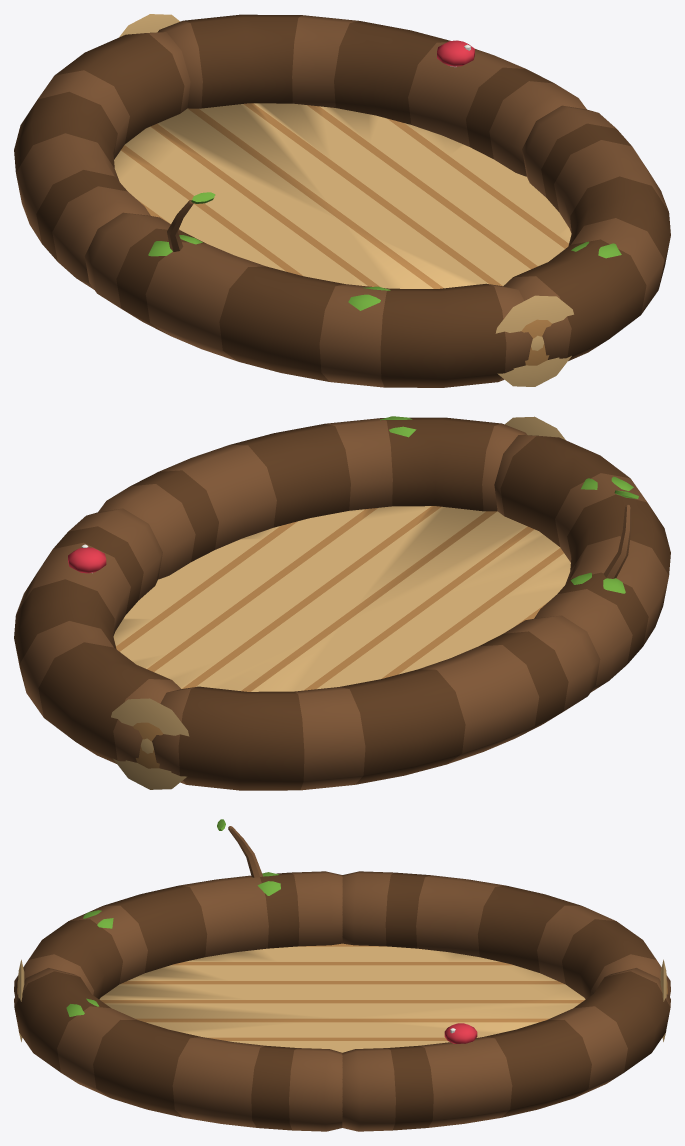
File: R03_HollowLog.fbx
3 renders of one model, top to bottom at view 1: azimuth 30°, elevation 25°; view 2: azimuth 150°, elevation 25°; view 3: azimuth 270°, elevation 25°, orthographic. The views are drawn at different scales.
Parts seen in each view (by area): view 1: Raft_Floor, Chamber_0_NE, Chamber_3_SO, Chamber_1_NO, Chamber_2_SE; view 2: Raft_Floor, Chamber_2_SE, Chamber_1_NO, Chamber_3_SO, Chamber_0_NE; view 3: Raft_Floor, Chamber_3_SO, Chamber_1_NO, Chamber_0_NE, Chamber_2_SE.
Boxes of the visible parts, left/top/right/bottom form: Raft_Floor: left=114, top=103, right=571, bottom=288; Chamber_0_NE: left=84, top=192, right=573, bottom=387; Chamber_3_SO: left=119, top=14, right=586, bottom=176; Chamber_1_NO: left=503, top=105, right=670, bottom=361; Chamber_2_SE: left=14, top=32, right=190, bottom=289; Raft_Floor: left=113, top=506, right=570, bottom=691; Chamber_2_SE: left=152, top=615, right=600, bottom=790; Chamber_1_NO: left=98, top=416, right=527, bottom=579; Chamber_3_SO: left=14, top=508, right=189, bottom=789; Chamber_0_NE: left=494, top=416, right=670, bottom=692; Raft_Floor: left=99, top=943, right=585, bottom=1052; Chamber_3_SO: left=342, top=959, right=670, bottom=1131; Chamber_1_NO: left=14, top=968, right=342, bottom=1131; Chamber_0_NE: left=14, top=819, right=342, bottom=1041; Chamber_2_SE: left=342, top=871, right=670, bottom=999.
Size of the model in its own units: 3.82 by 1.23 by 4.99.
